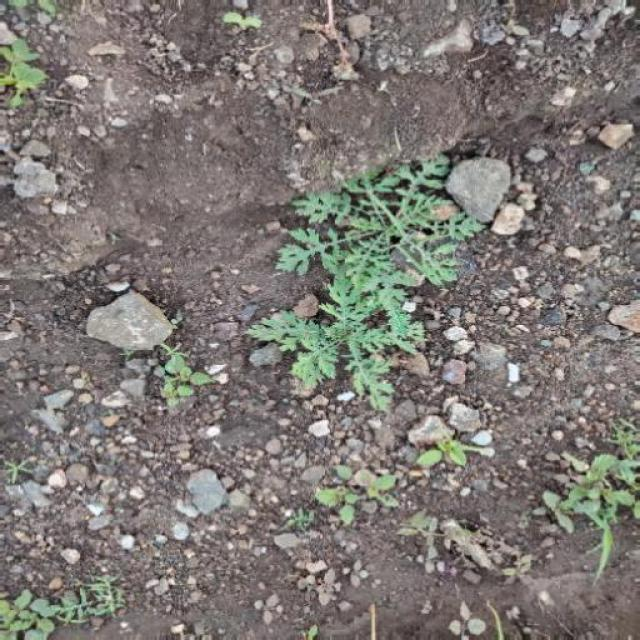weed: (229, 165, 521, 409), (542, 414, 640, 585), (310, 462, 405, 538), (2, 34, 52, 118), (155, 344, 214, 414)
